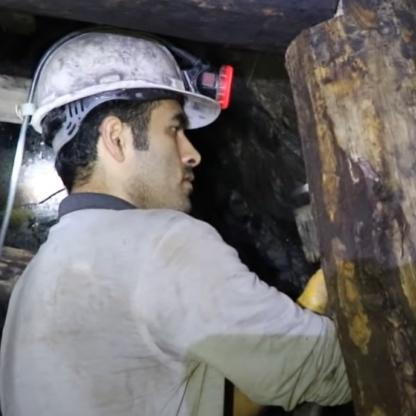helmet: (23, 15, 229, 216)
